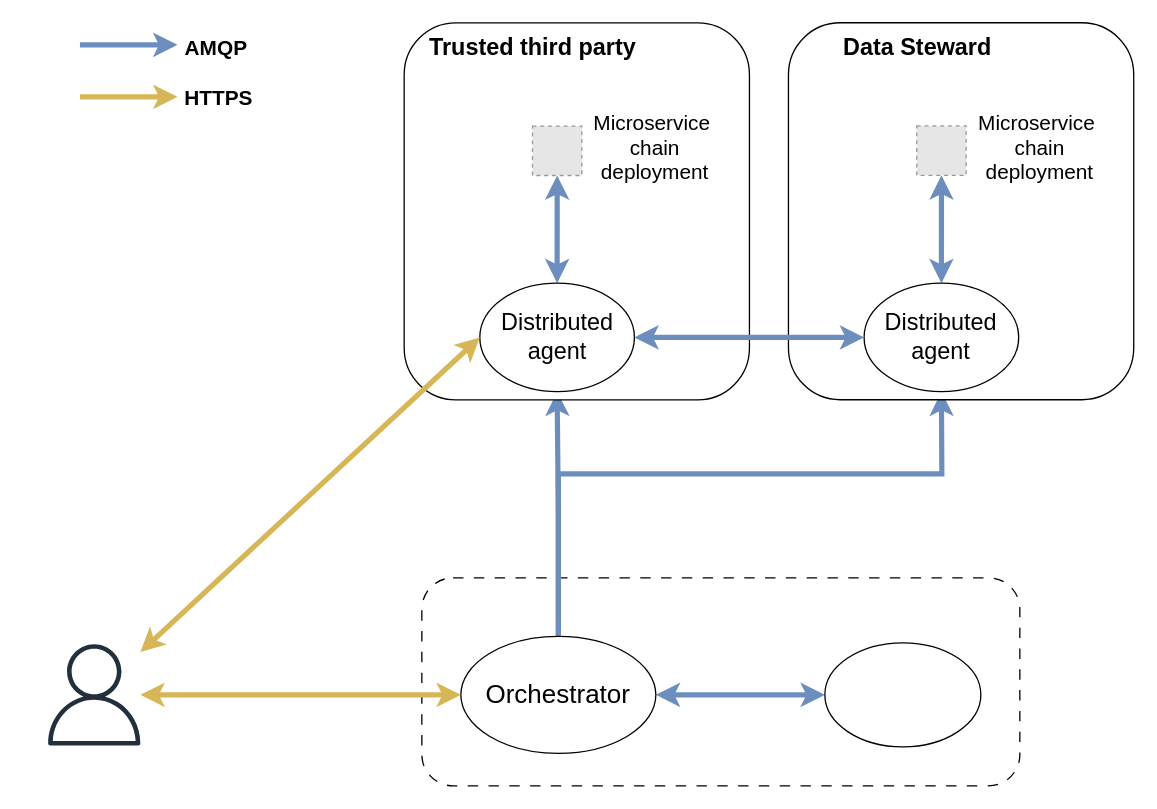
The diagram is 1157 pixels wide and 809 high, and some of its shapes have lost their labels. Grey dashed boxes stand in for pictures. Here are the shapes that lost their labels. From the top down, the centre of each, then its label:
At point 93,694: "Data analyst".
At point 902,694: "Policy enforcer".
